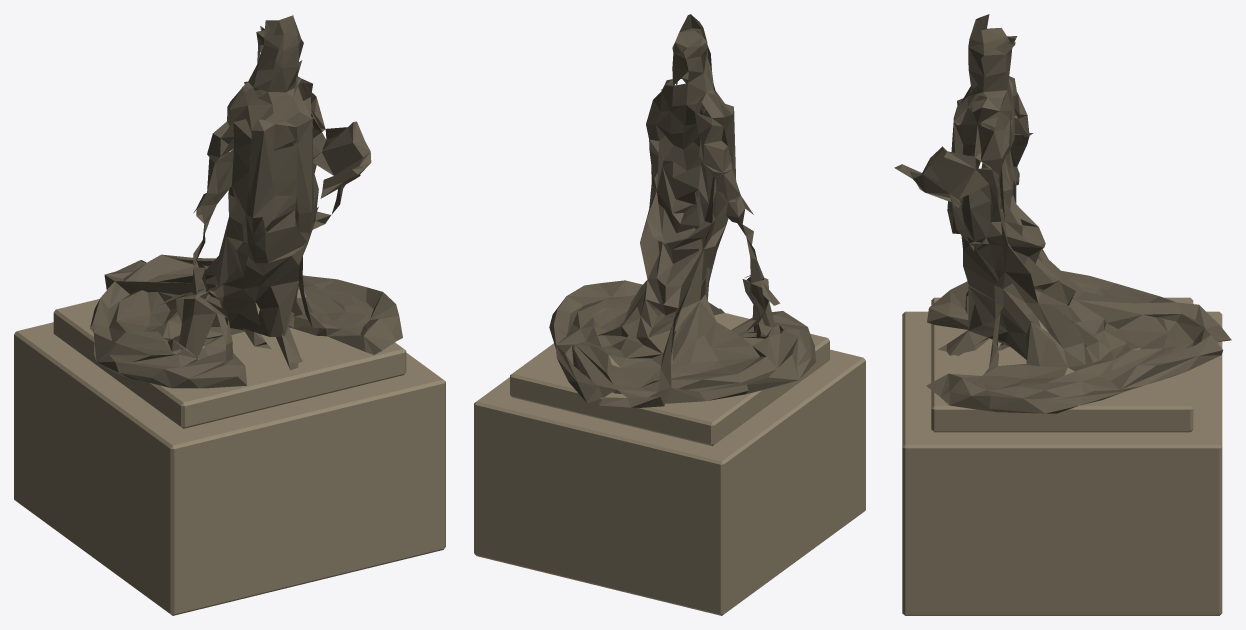
File: statue-knight-lod1.glb
3 views of the same model, side by side, from view 1: azimuth 30°, elevation 25°; view 2: azimuth 150°, elevation 25°; view 3: azimuth 270°, elevation 25° (orthographic). The views are drawn at different scales.
Bounding box in the file's own units: 2.2 × 4.1 × 2.32.
